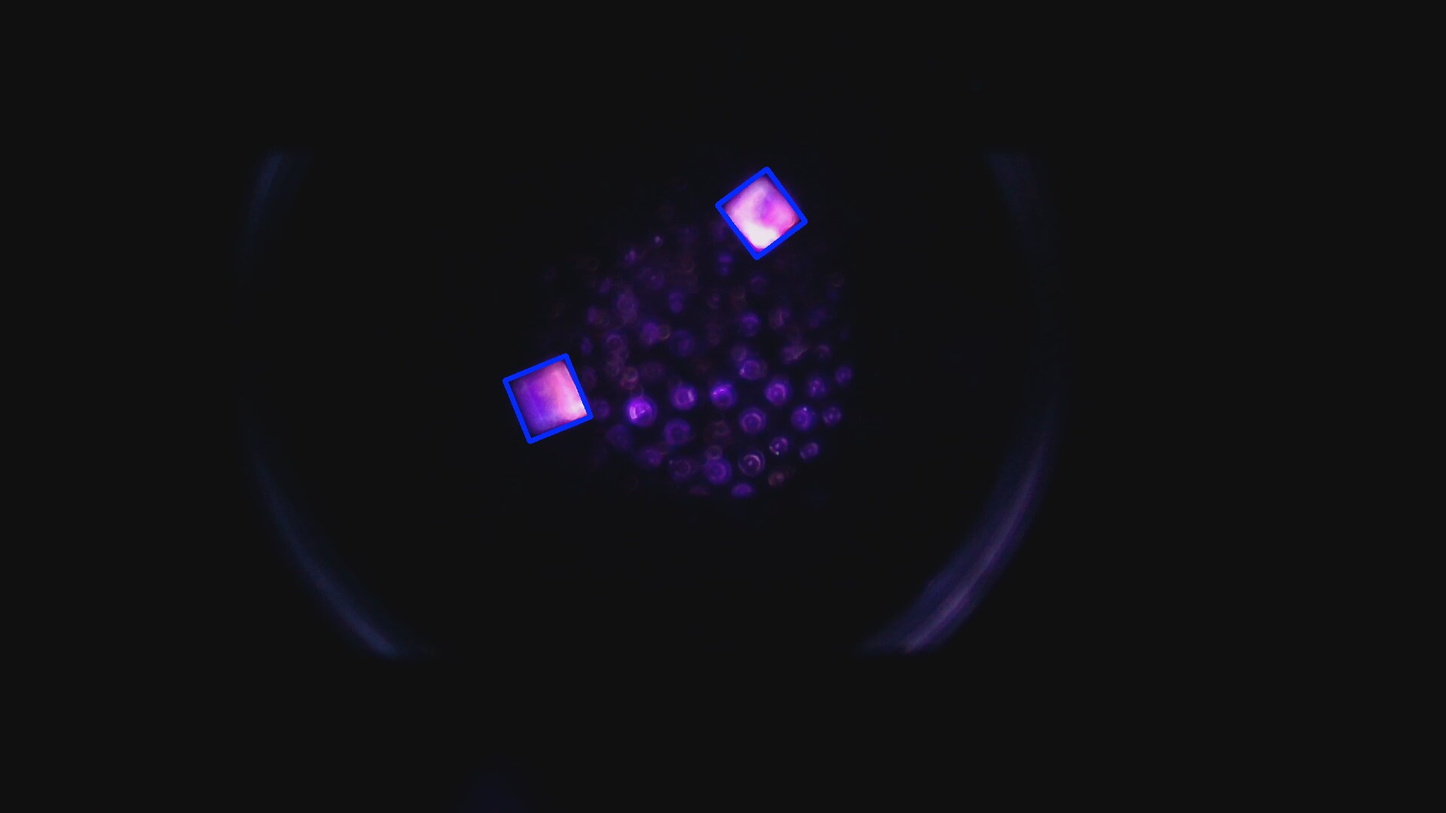plastic: (718, 169, 806, 258), (504, 354, 592, 442)
